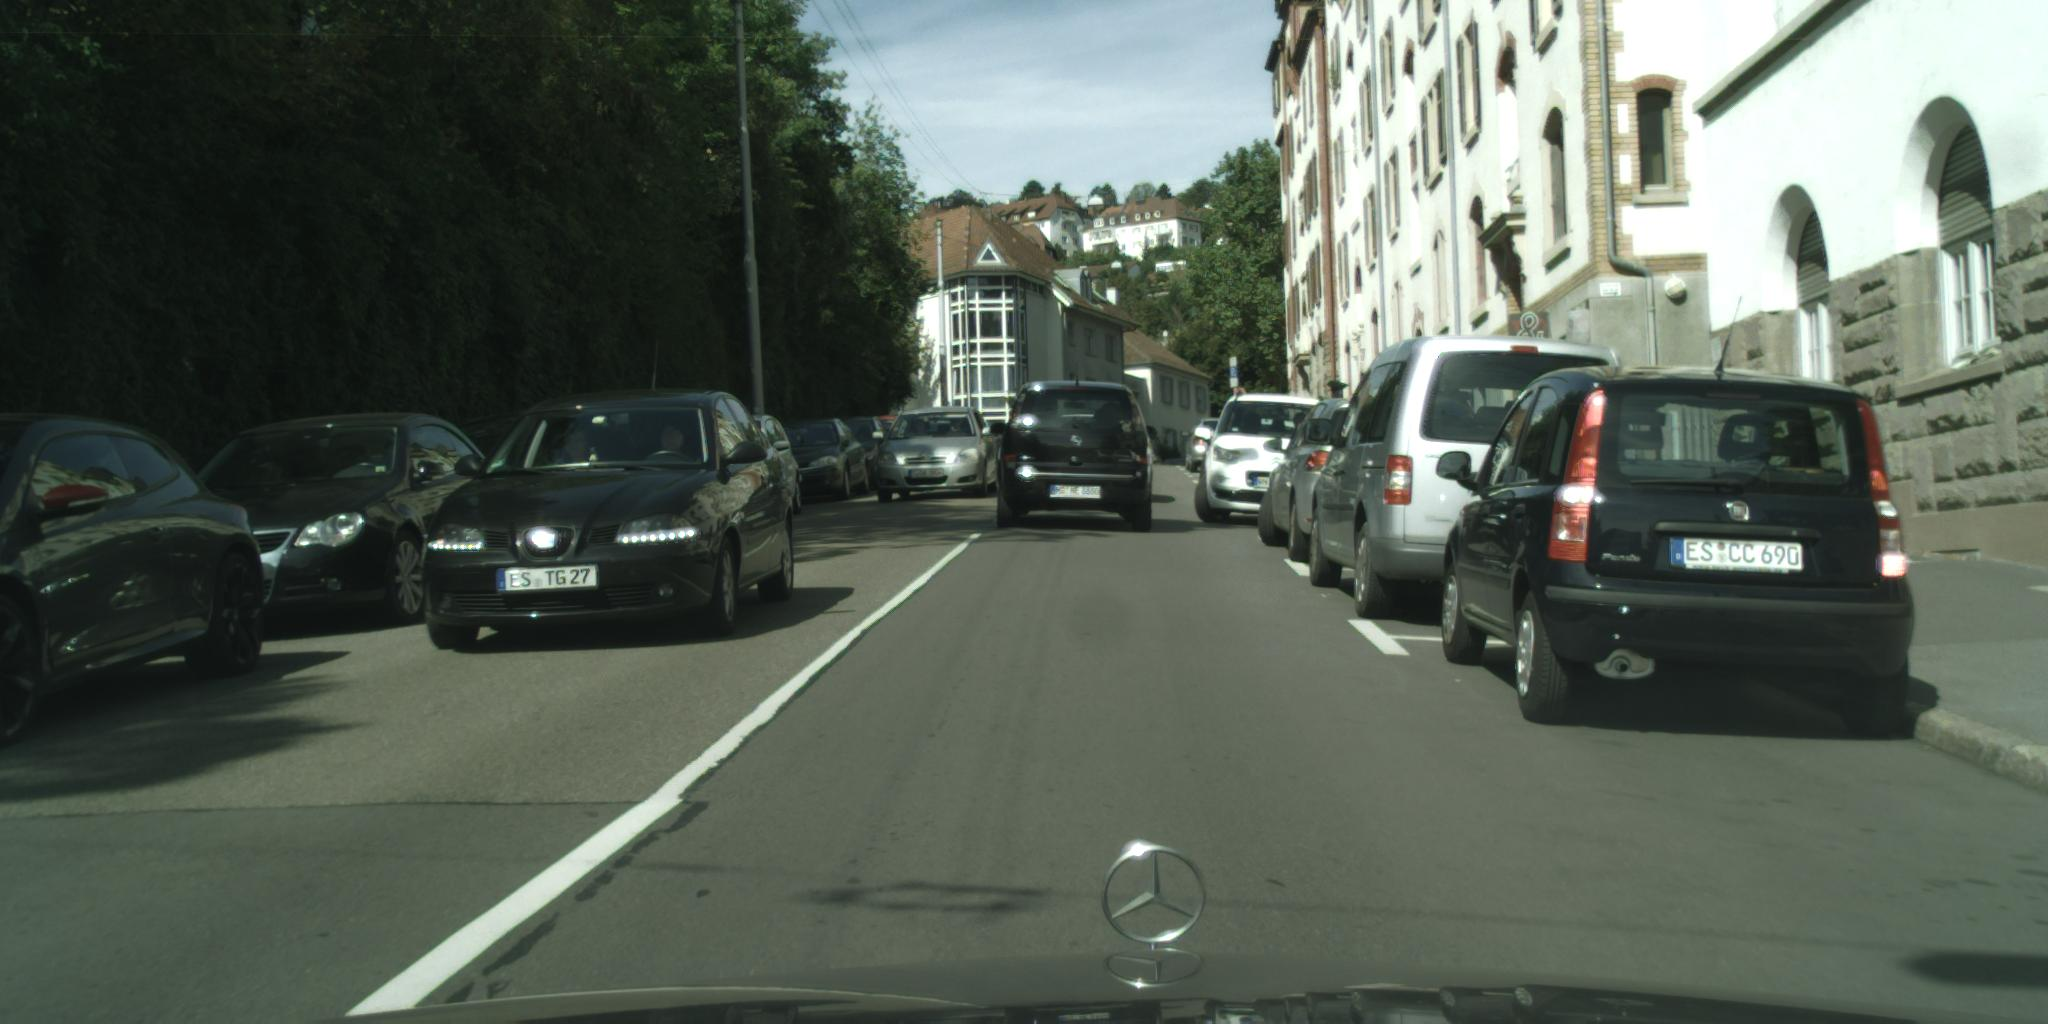car: (1434, 362, 1924, 738), (418, 388, 797, 650), (1, 406, 268, 754), (1304, 333, 1618, 620), (189, 413, 502, 630), (987, 376, 1160, 534), (1256, 391, 1366, 564), (1194, 394, 1330, 525), (872, 408, 1012, 502), (771, 418, 871, 507), (750, 410, 808, 521), (829, 411, 889, 488), (1183, 418, 1226, 473), (872, 413, 909, 445)
